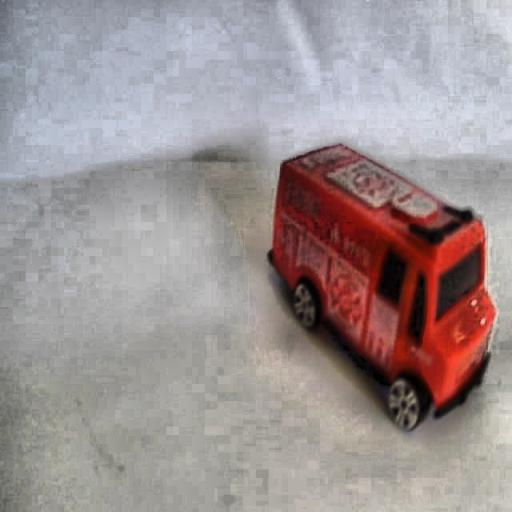fire_truck: (264, 136, 499, 435)
